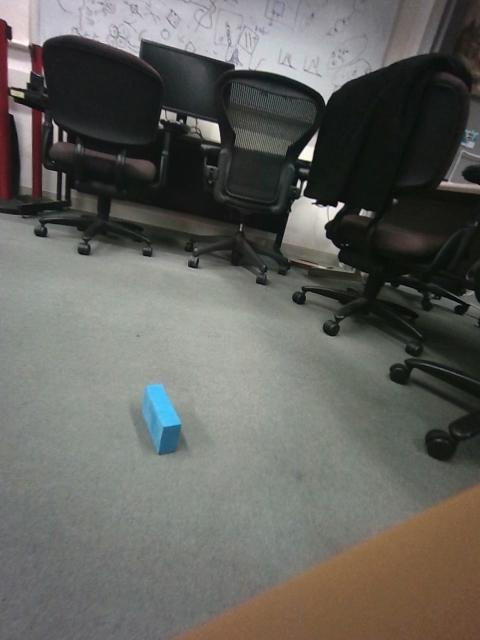block: (55, 240, 91, 263)
